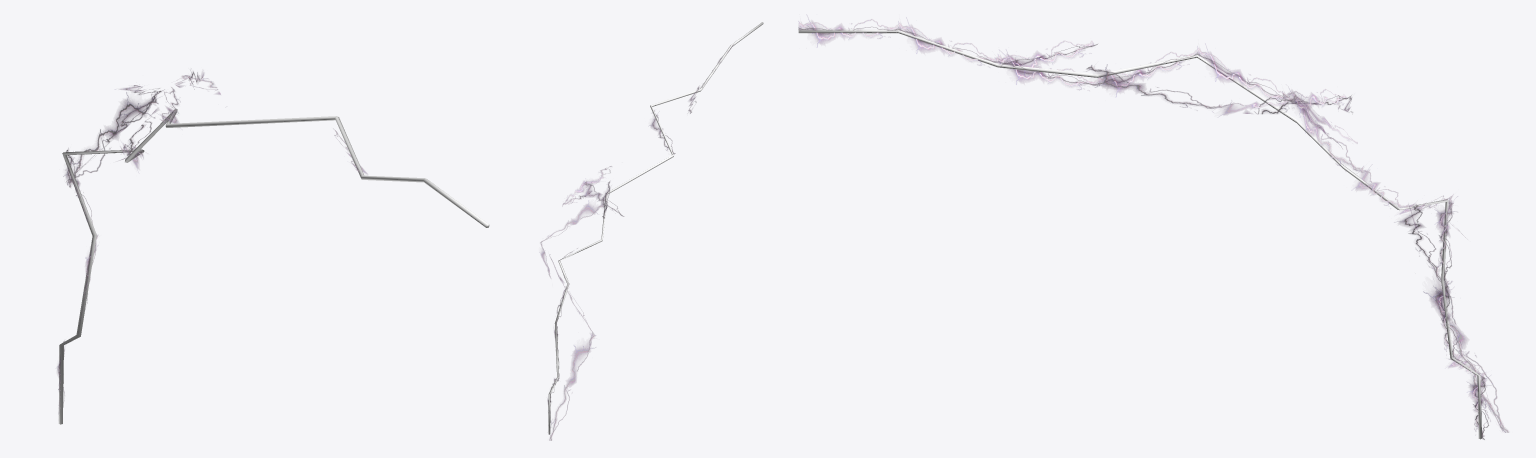
The model's file is TeslaArc2.glb.
3 renders of one model, left to right at view 1: azimuth 30°, elevation 25°; view 2: azimuth 150°, elevation 25°; view 3: azimuth 270°, elevation 25°, orthographic. The views are drawn at different scales.
Parts seen in each view (by area): view 1: gfxGlow_blue_a.png__, arc1.png__; view 2: arc1.png__, gfxGlow_blue_a.png__; view 3: arc1.png__, gfxGlow_blue_a.png__.
Part boxes in pixels (x1,y1,x2,y2): gfxGlow_blue_a.png__: (58, 108, 489, 424); arc1.png__: (57, 71, 366, 412); arc1.png__: (540, 44, 733, 440); gfxGlow_blue_a.png__: (548, 22, 763, 434); arc1.png__: (798, 17, 1508, 439); gfxGlow_blue_a.png__: (798, 29, 1481, 439).
Size of the model in its own units: 8.11 by 25.5 by 39.73.
Materials: 2 (1 with a texture image).
